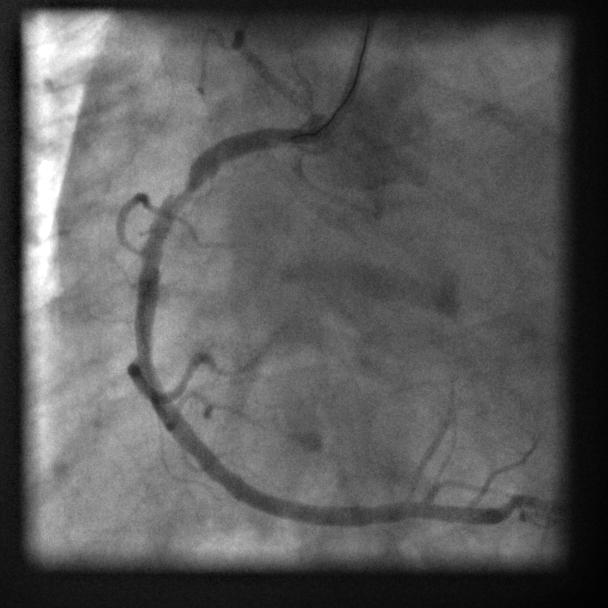Stenosis: (169, 165, 201, 215)
